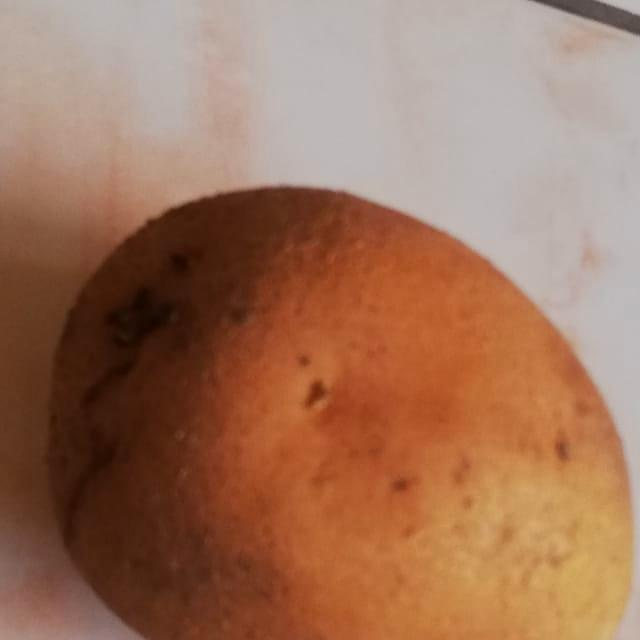potato: (28, 156, 640, 640)
